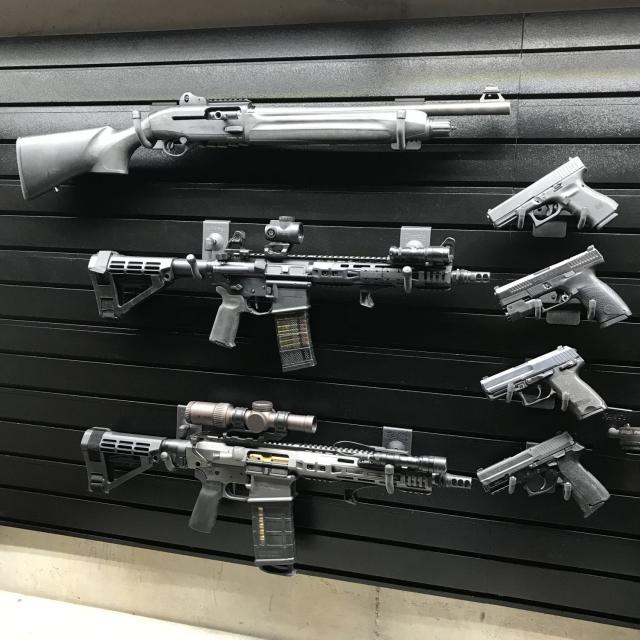HandGun: (495, 245, 632, 330), (475, 434, 610, 516), (487, 157, 619, 232), (480, 346, 607, 422)
Rifle: (81, 401, 448, 577), (87, 217, 491, 373)
ShotGun: (0, 93, 509, 198)
